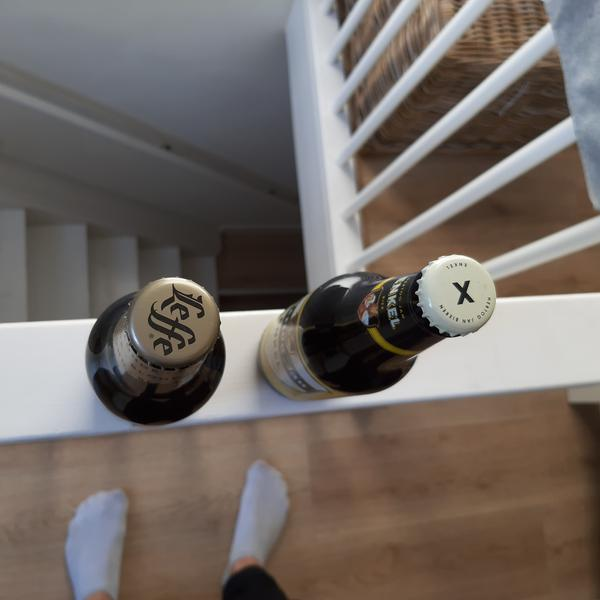leffe: (129, 277, 221, 368)
